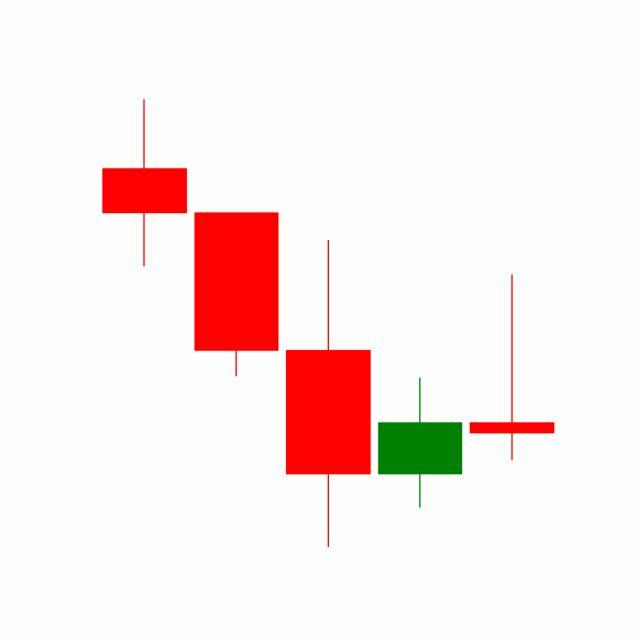Spinning Top: (466, 273, 559, 464)
